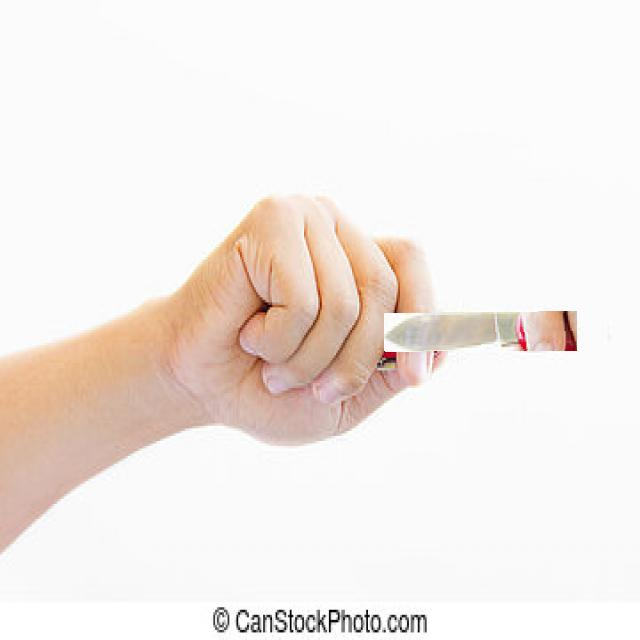knife: (384, 312, 577, 352)
